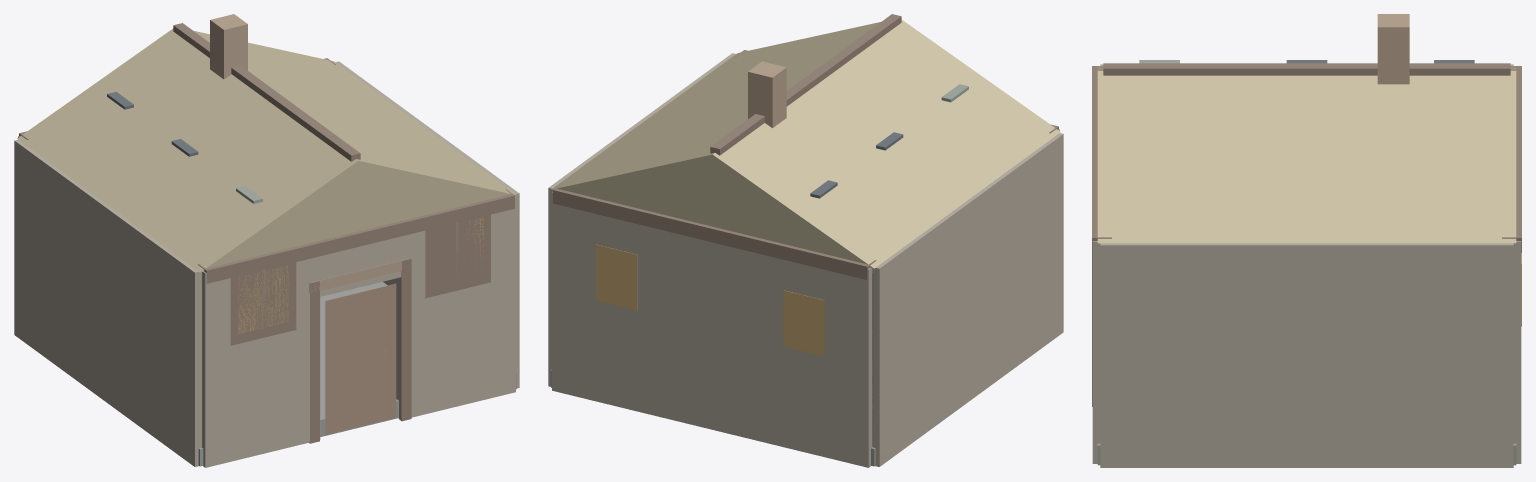
File: peat_hut_inhabited.glb
3 renders of one model, left to right at view 1: azimuth 30°, elevation 25°; view 2: azimuth 150°, elevation 25°; view 3: azimuth 270°, elevation 25°, orthographic. The views are drawn at different scales.
Visible parts, largest first — view 1: peat_hut_mat_01, peat_hut_mat_07, peat_hut_mat_02, peat_hut_mat_04, peat_hut_mat_03, peat_hut_mat_00, peat_hut_mat_06; view 2: peat_hut_mat_01, peat_hut_mat_07, peat_hut_mat_02, peat_hut_mat_06, peat_hut_mat_03, peat_hut_mat_08; view 3: peat_hut_mat_01, peat_hut_mat_07, peat_hut_mat_02, peat_hut_mat_03.
Part boxes in pixels (bbox=[...]): peat_hut_mat_01: bbox=[14, 61, 519, 467]; peat_hut_mat_07: bbox=[17, 28, 516, 272]; peat_hut_mat_02: bbox=[19, 23, 514, 443]; peat_hut_mat_04: bbox=[261, 222, 459, 434]; peat_hut_mat_03: bbox=[210, 14, 412, 293]; peat_hut_mat_00: bbox=[198, 282, 516, 466]; peat_hut_mat_06: bbox=[238, 218, 483, 333]; peat_hut_mat_01: bbox=[548, 53, 1063, 467]; peat_hut_mat_07: bbox=[551, 20, 1060, 268]; peat_hut_mat_02: bbox=[553, 14, 1058, 445]; peat_hut_mat_06: bbox=[596, 244, 824, 356]; peat_hut_mat_03: bbox=[748, 61, 786, 127]; peat_hut_mat_08: bbox=[810, 132, 903, 198]; peat_hut_mat_01: bbox=[1092, 64, 1521, 467]; peat_hut_mat_07: bbox=[1097, 66, 1516, 243]; peat_hut_mat_02: bbox=[1092, 63, 1521, 406]; peat_hut_mat_03: bbox=[1377, 14, 1409, 84].
Size of the model in its own units: 2.97 by 2.73 by 2.98.
